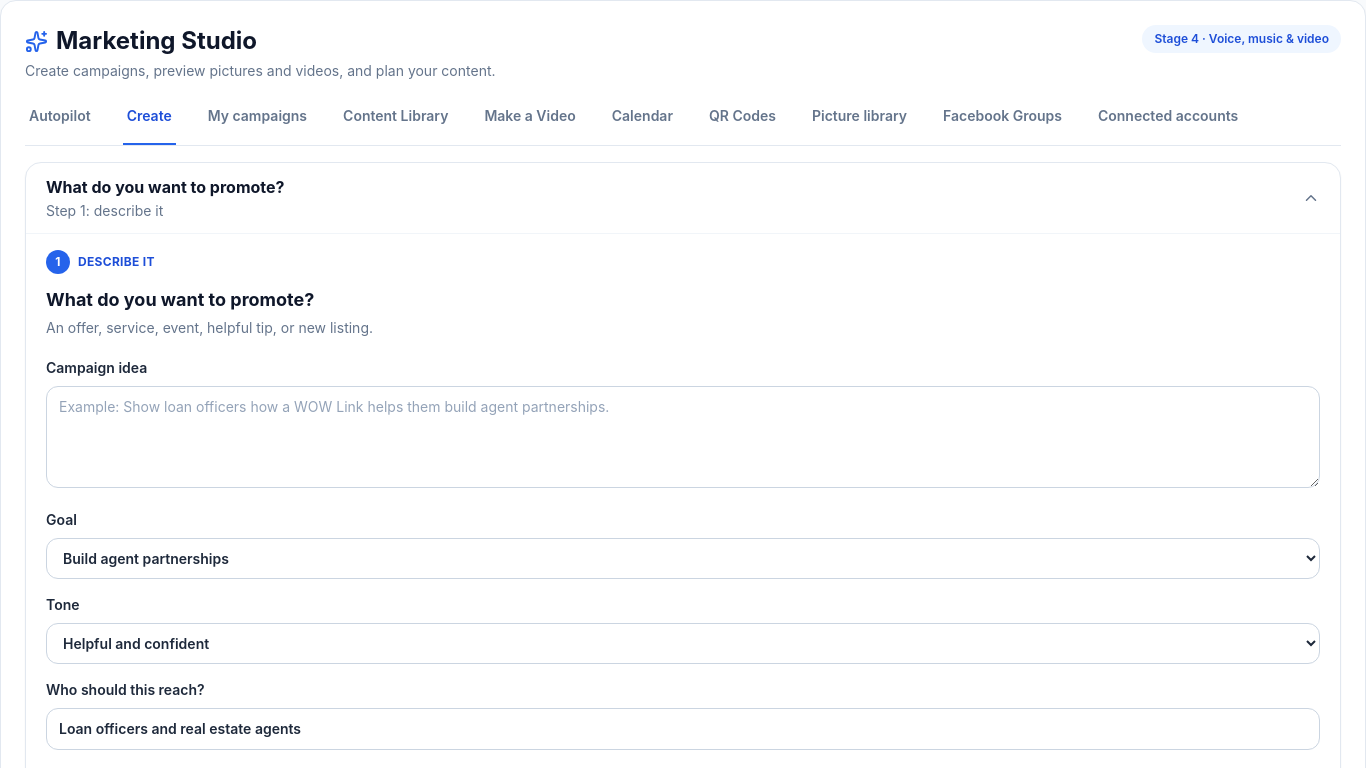
Test case: Create resets every brief field while Resume Draft restores saved data without a write
The image size is (1366, 768).
Click the tab "My campaigns" at (257, 123), box top-left (204, 101), bottom-right (311, 145)
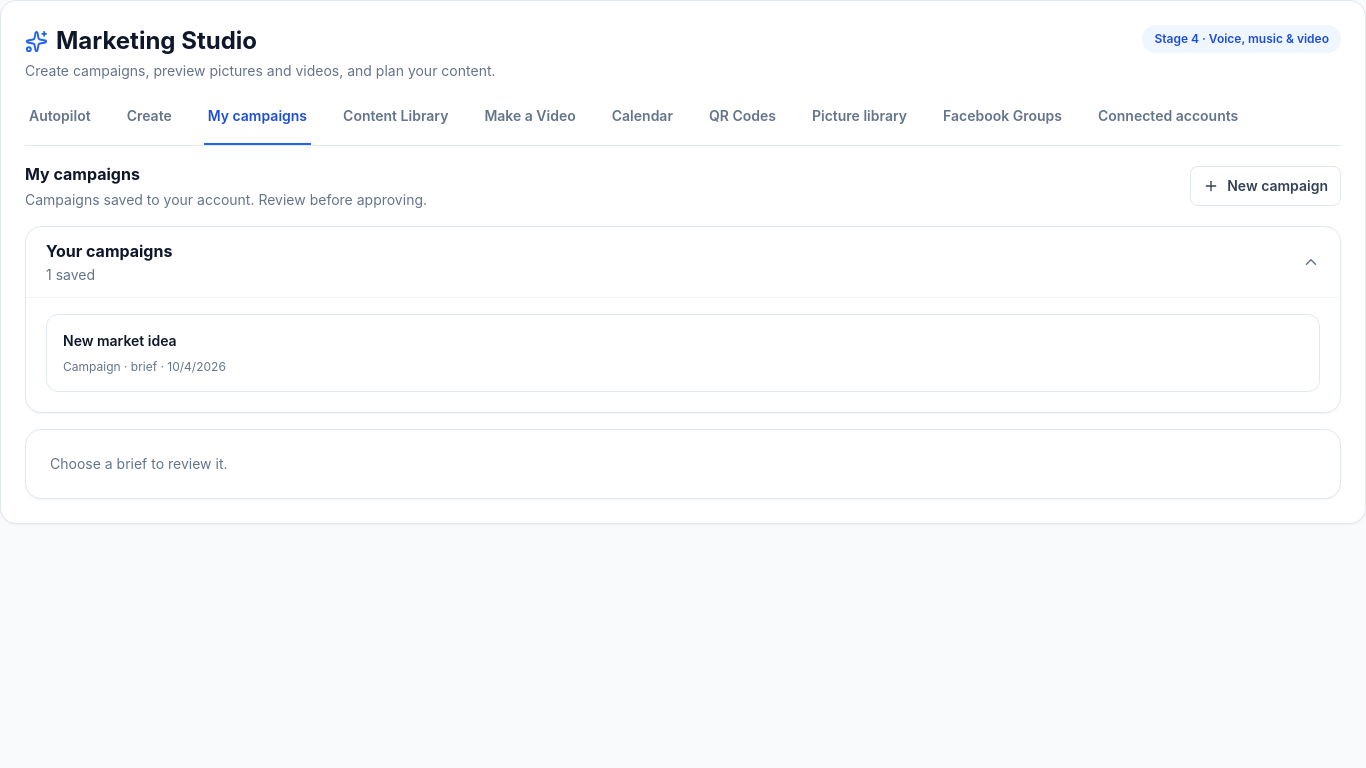
Click the button "New market idea Campaign · brief · 10/4/2026" at (120, 340), box top-left (46, 314), bottom-right (1320, 392)
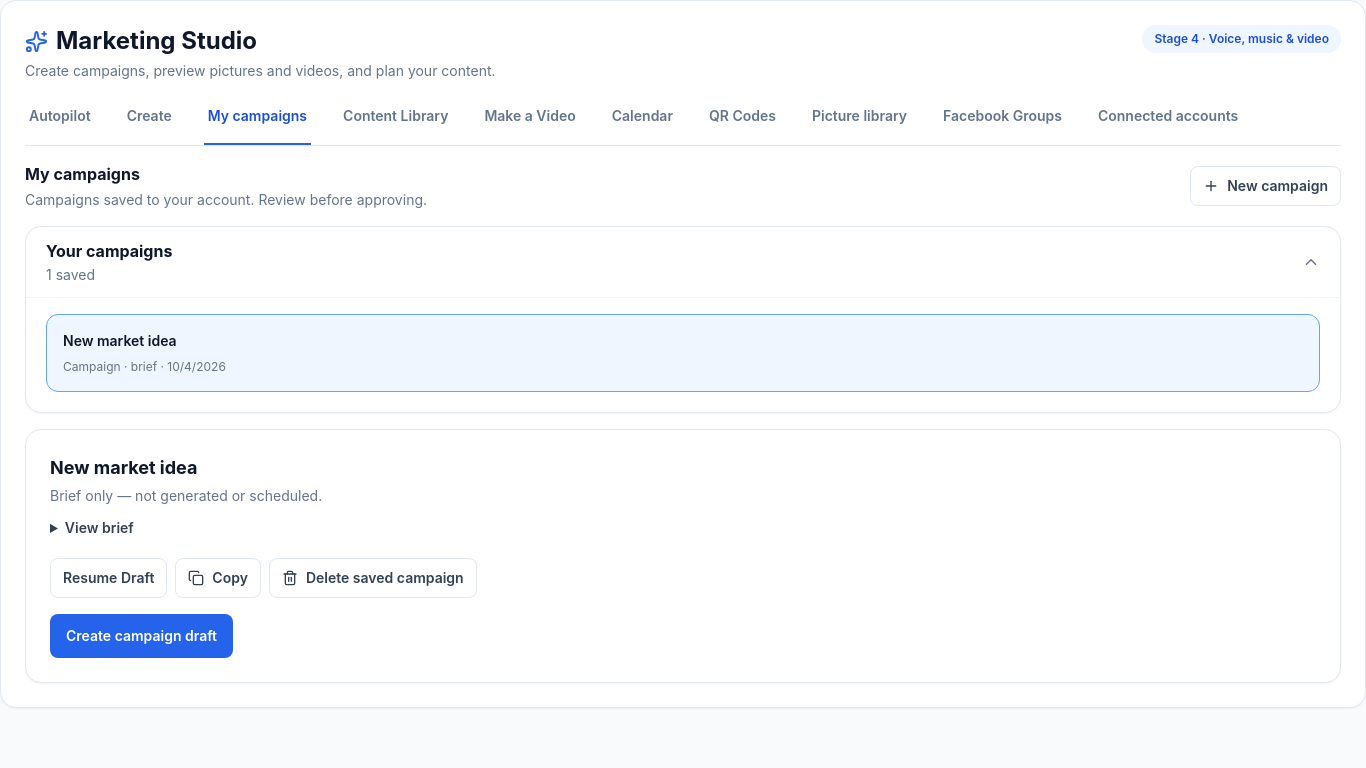
Click the button "Resume Draft" at (109, 578), box top-left (50, 558), bottom-right (167, 598)
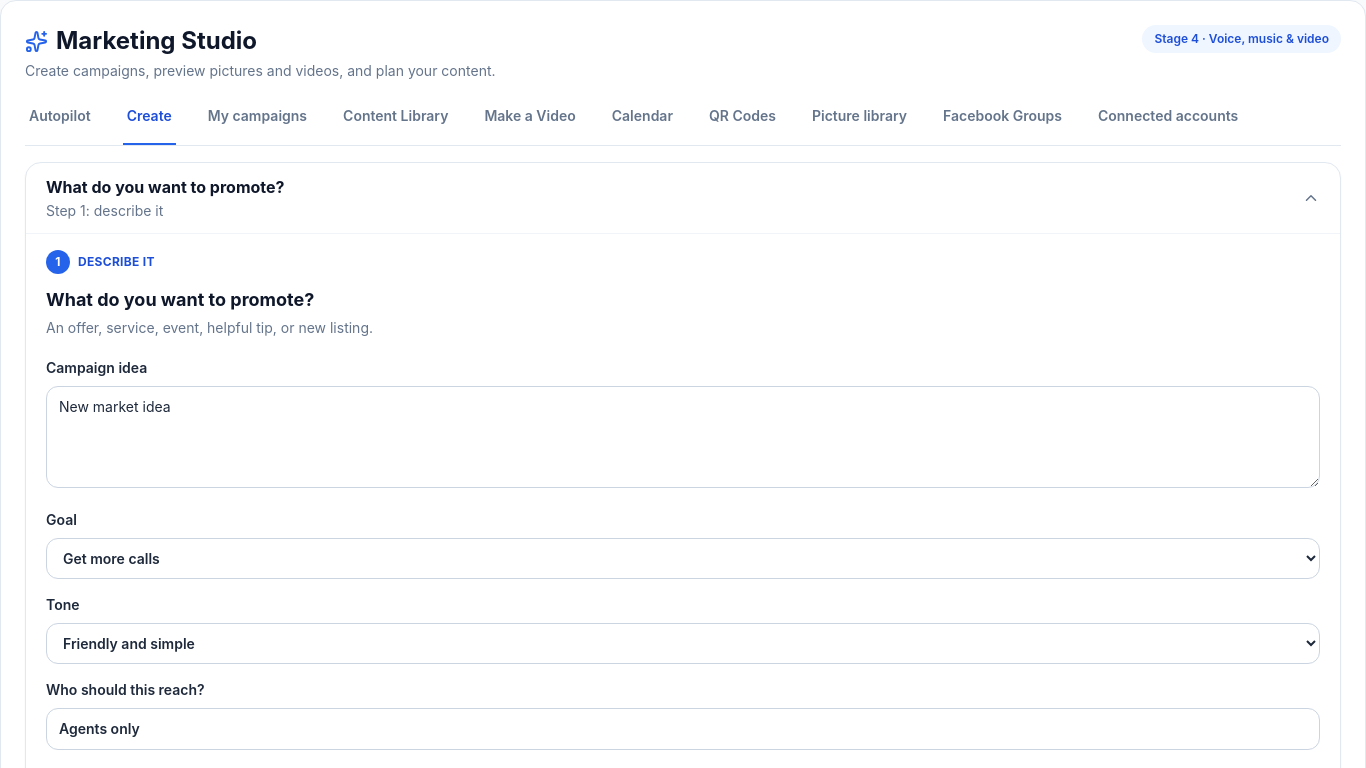
Now the text box labelled "Campaign idea" holds "New market idea", box top-left (46, 386), bottom-right (1320, 488)
Click the tab "Create" at (149, 123), box top-left (123, 101), bottom-right (176, 145)
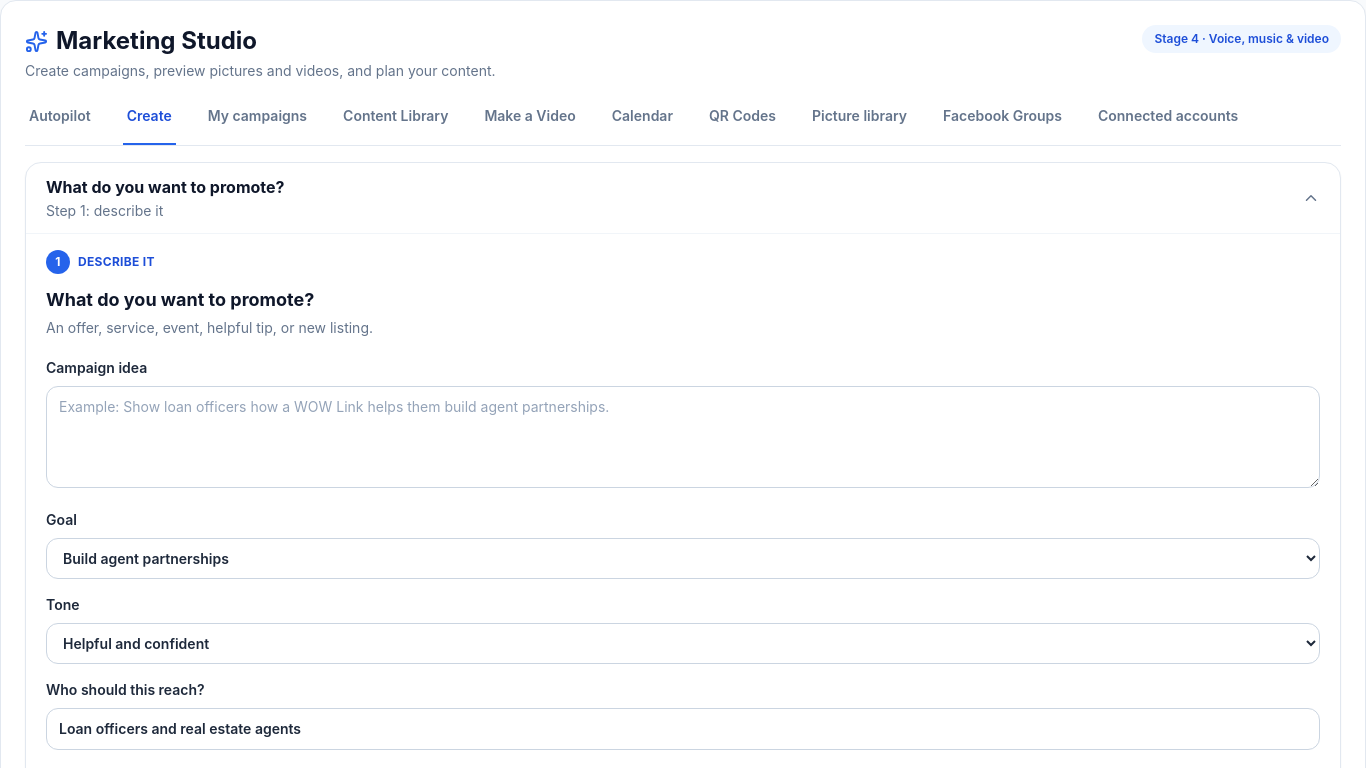
Now the text box labelled "Campaign idea" is empty, box top-left (46, 386), bottom-right (1320, 488)
Now the dropdown labelled "Goal" shows "Build agent partnerships", box top-left (46, 538), bottom-right (1320, 579)
Now the dropdown labelled "Tone" shows "Helpful and confident", box top-left (46, 623), bottom-right (1320, 664)
Click the tab "My campaigns" at (257, 123), box top-left (204, 101), bottom-right (311, 145)
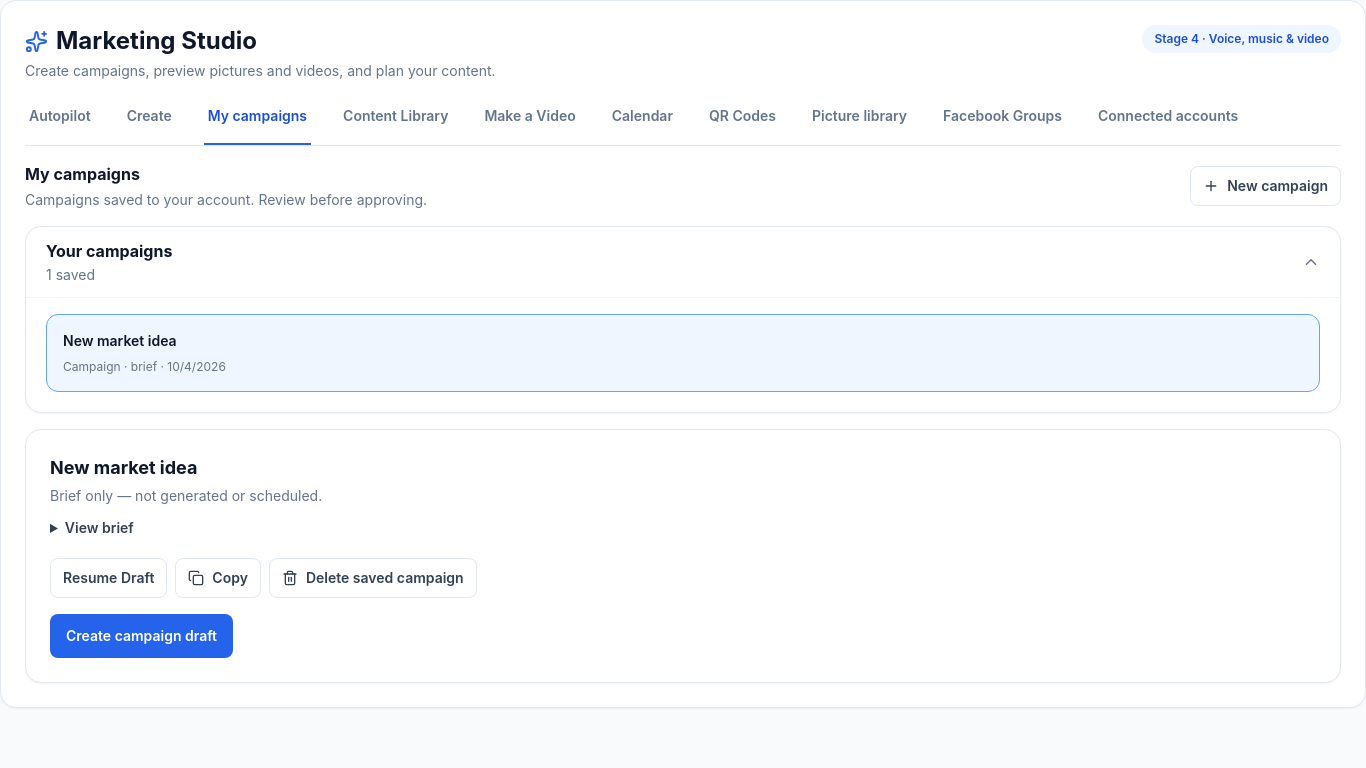
Click the button "Resume Draft" at (109, 578), box top-left (50, 558), bottom-right (167, 598)
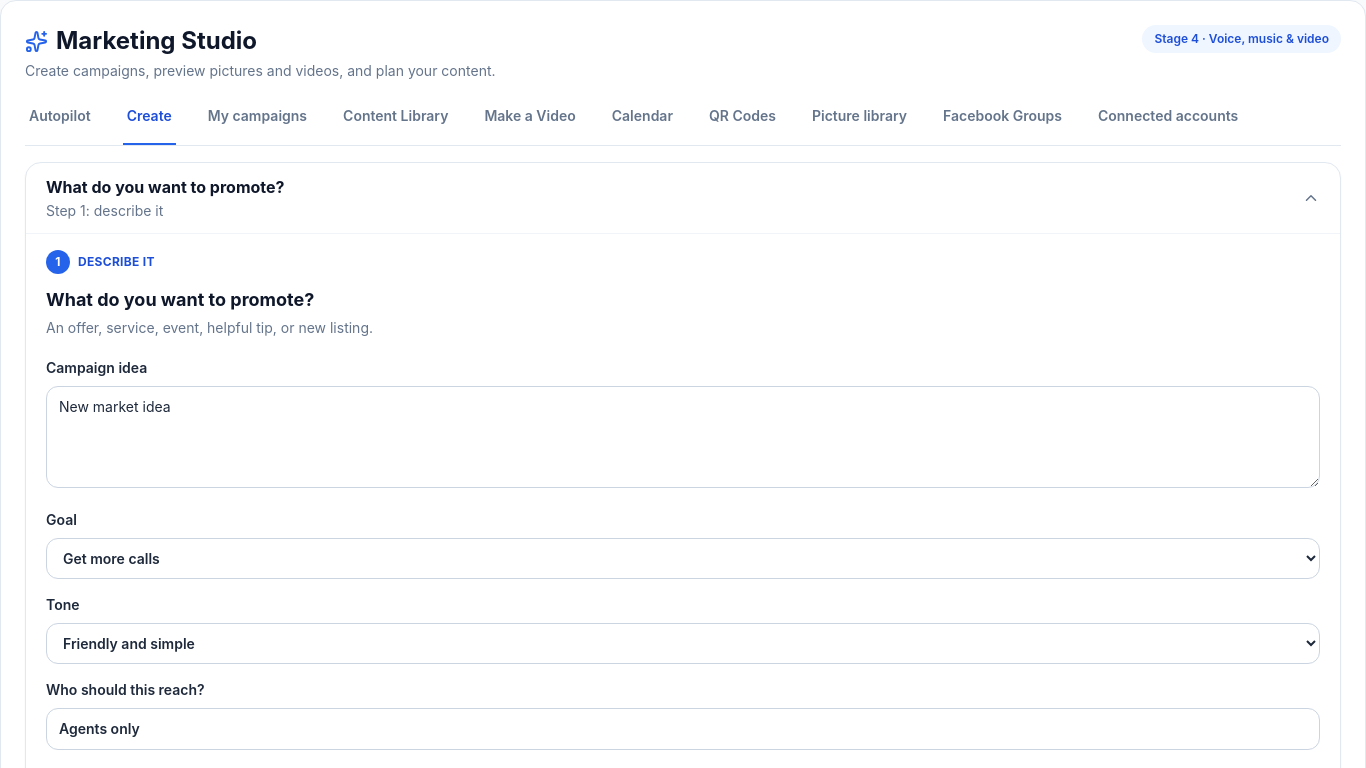
Now the text box labelled "Campaign idea" holds "New market idea", box top-left (46, 386), bottom-right (1320, 488)
